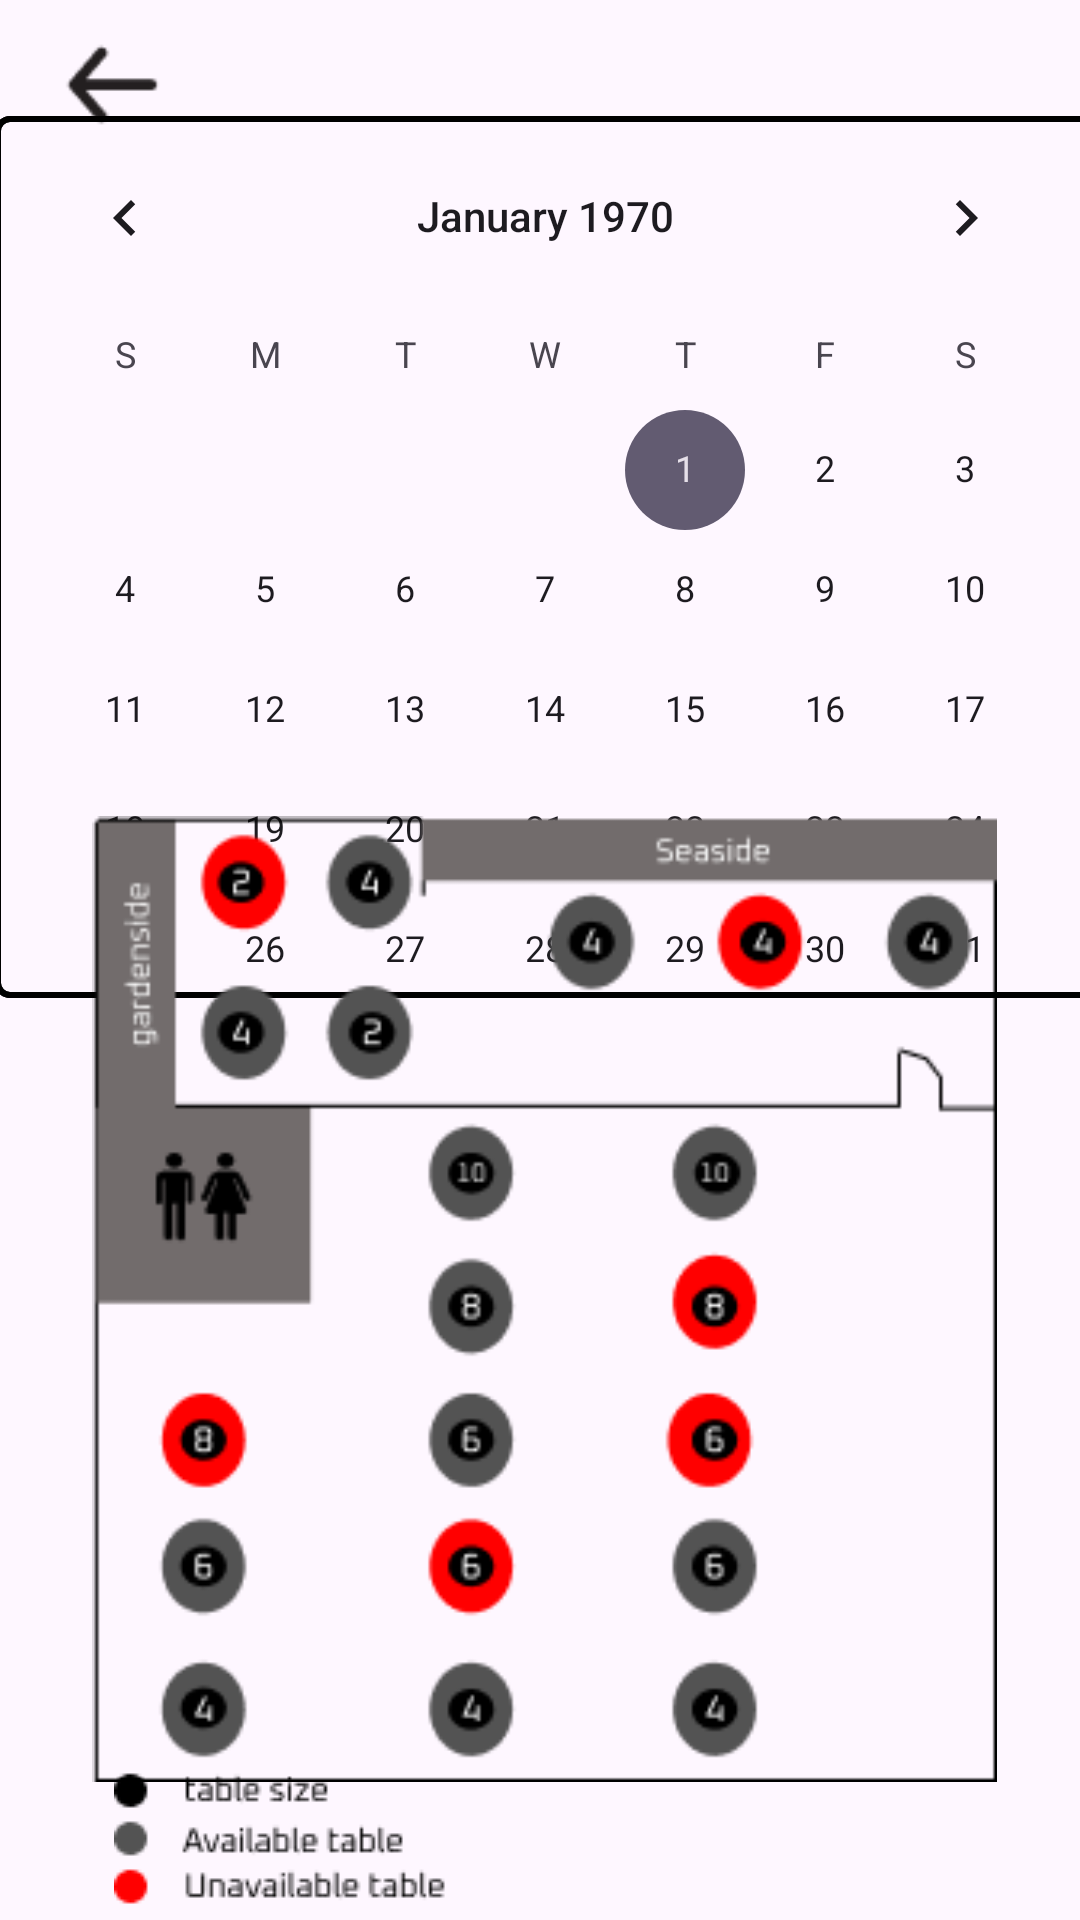

Named icons in this screenshot (1080w x 1920h) and their bounding boxes, BBox(x1, y1, x2, y2):
arrow back: BBox(41, 46, 182, 124)
